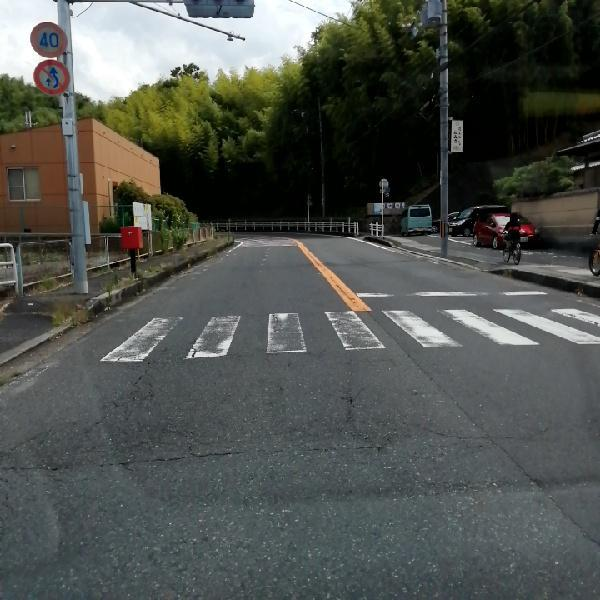D10: (4, 423, 410, 493), (411, 419, 549, 457)
D20: (87, 339, 168, 436)
D43: (44, 280, 581, 379), (89, 293, 480, 367)
